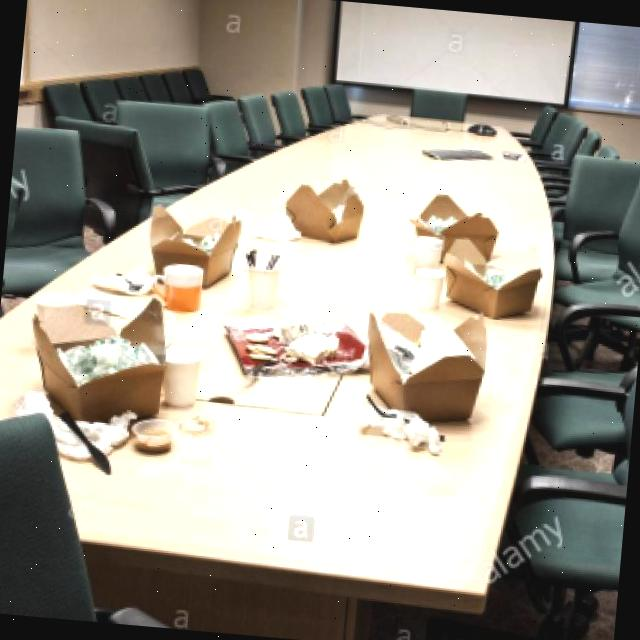chair: (1, 124, 120, 296), (534, 302, 640, 448), (555, 155, 640, 282), (115, 104, 211, 201), (208, 103, 258, 172)
mess: (16, 302, 198, 464), (403, 204, 556, 324), (192, 310, 402, 385), (270, 193, 384, 256), (359, 400, 458, 471), (104, 243, 154, 306)
messy_table: (0, 109, 554, 595)
